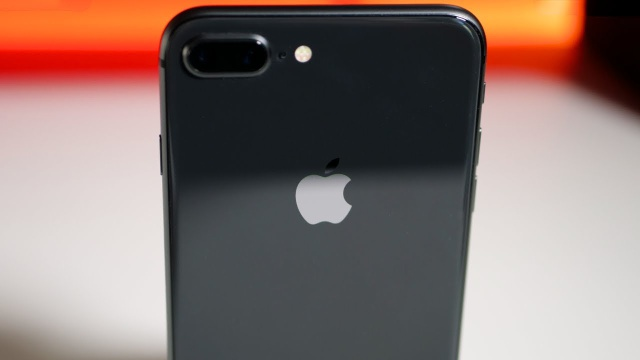apple: (282, 137, 387, 263)
